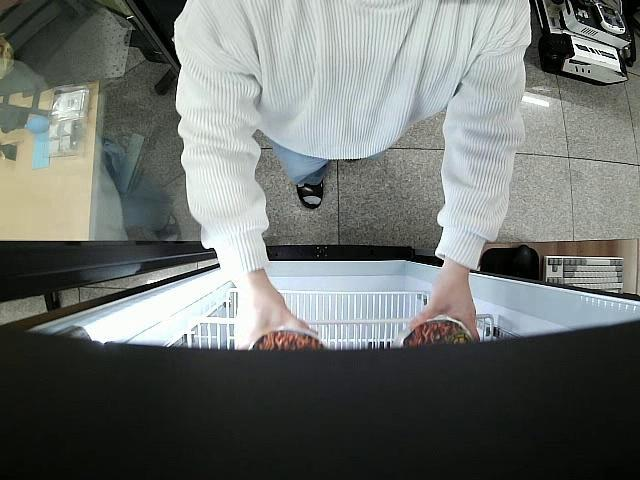03_chapagetti_L: (394, 310, 478, 350), (245, 326, 328, 351)
